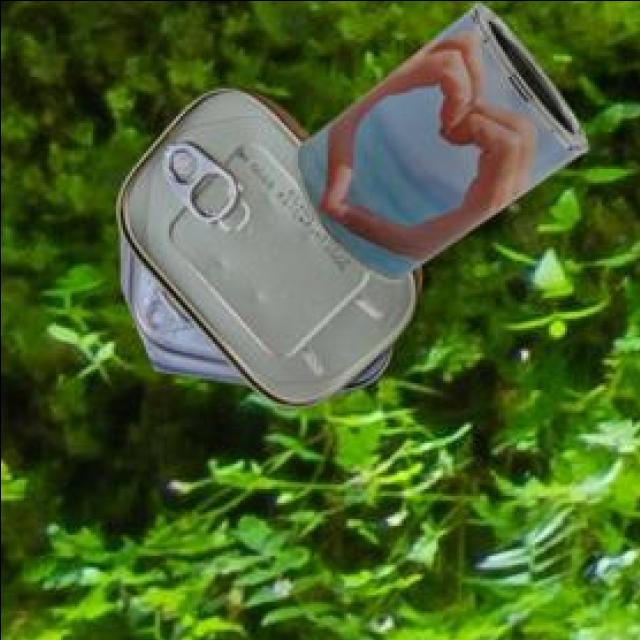logam: (114, 91, 418, 411), (291, 6, 584, 282)
